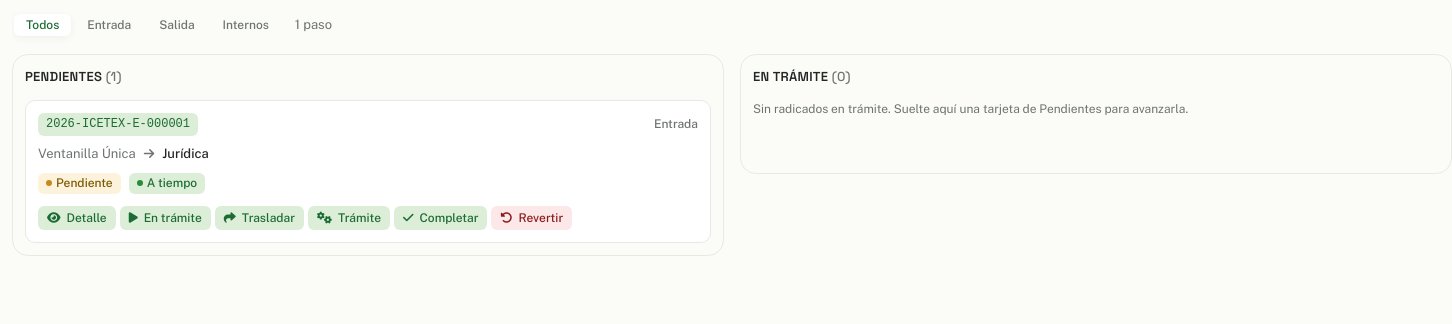
Test: WorkflowBoard — vacío con filtro activo no afirma ausencia general (A5, revisión UX) › con box='entrada' y sin resultados, dice 'ningún radicado de tipo Entrada' y ofrece 'Ver todos'
Expected: the text "2026-ICETEX-E-000001" is shown, [38, 113, 198, 136]
Click the button "Entrada" at (109, 25), box [75, 14, 143, 36]
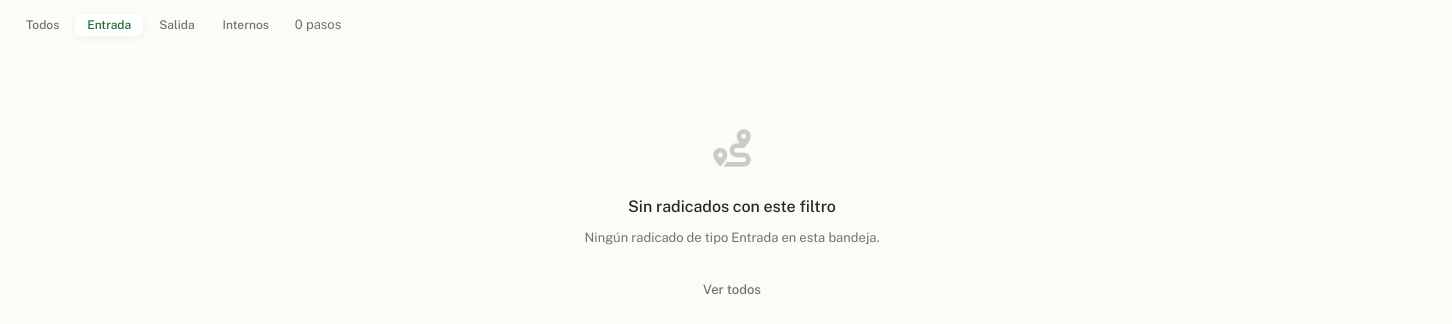
Expected: the text "Ningún radicado de tipo Entrada en esta bandeja." is shown, [584, 228, 879, 247]
Expected: the button named "ver todos" is shown, [686, 271, 778, 307]
